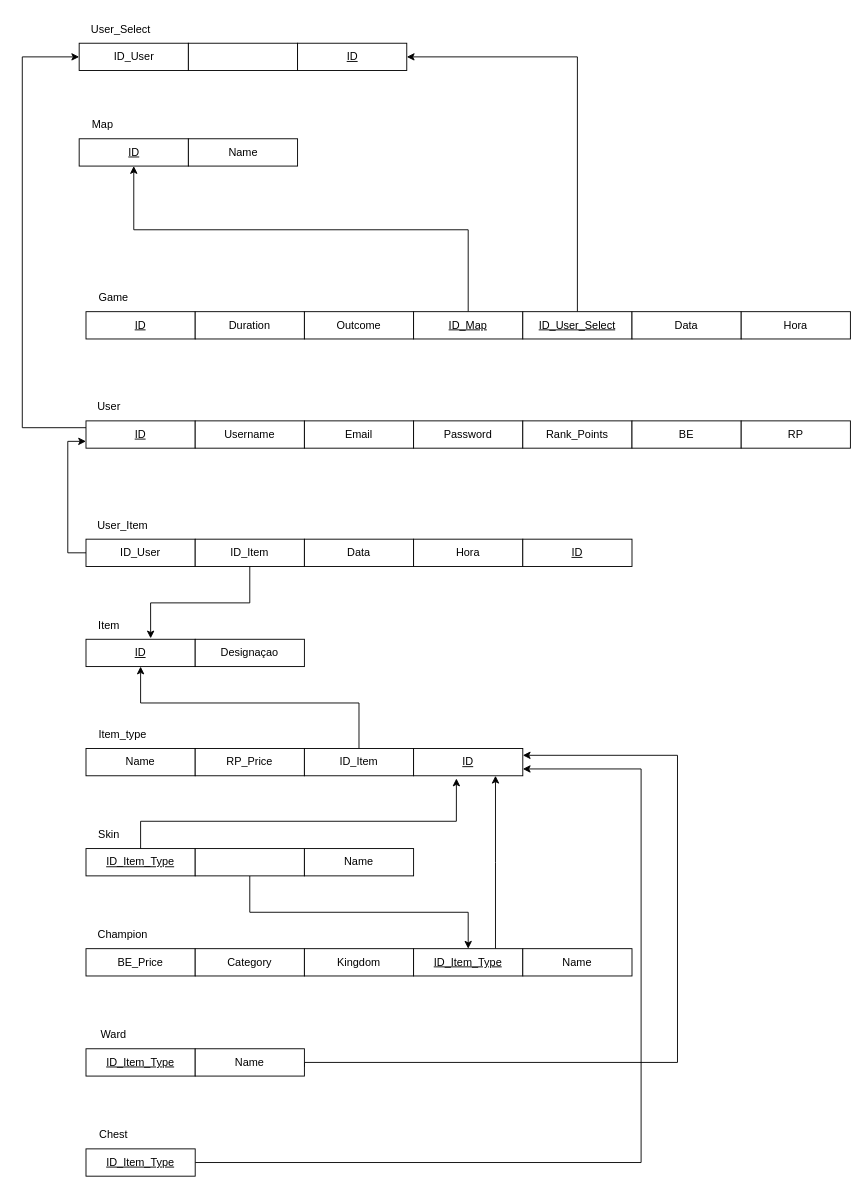
Some shapes in this 866 by 1192 pixel diagram are drawn without their labels. Here are the shapes that lost their labels. From the top down, the centre of each, then its label:
(242,56): Selectables_ID
(249,862): ID_Champion
